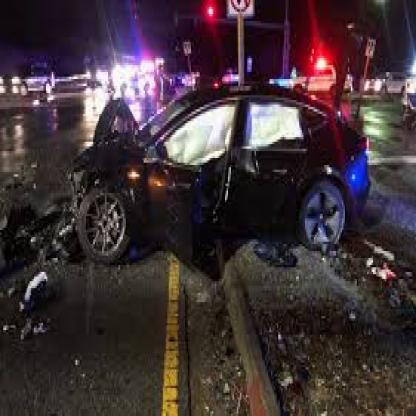accident: (57, 76, 378, 298)
